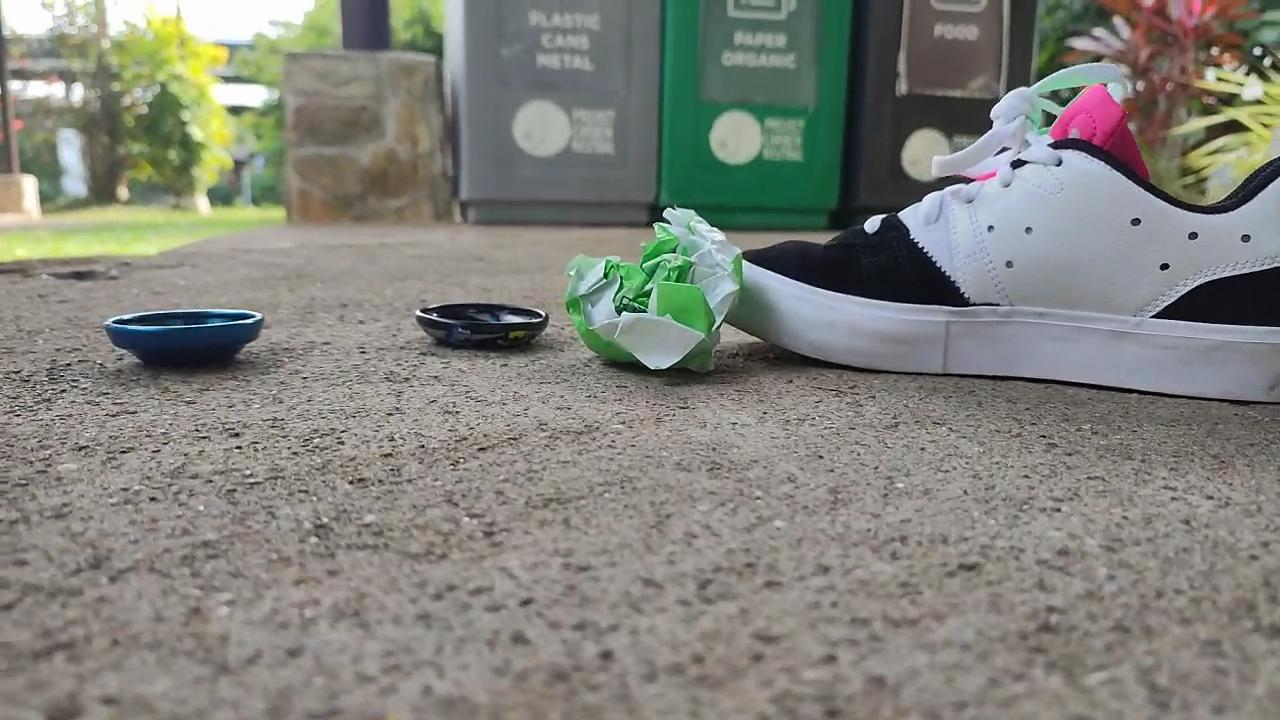Paper: (560, 199, 745, 391)
